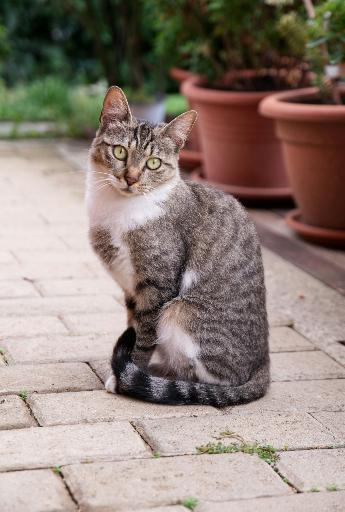cat_sitting: (86, 86, 270, 407)
